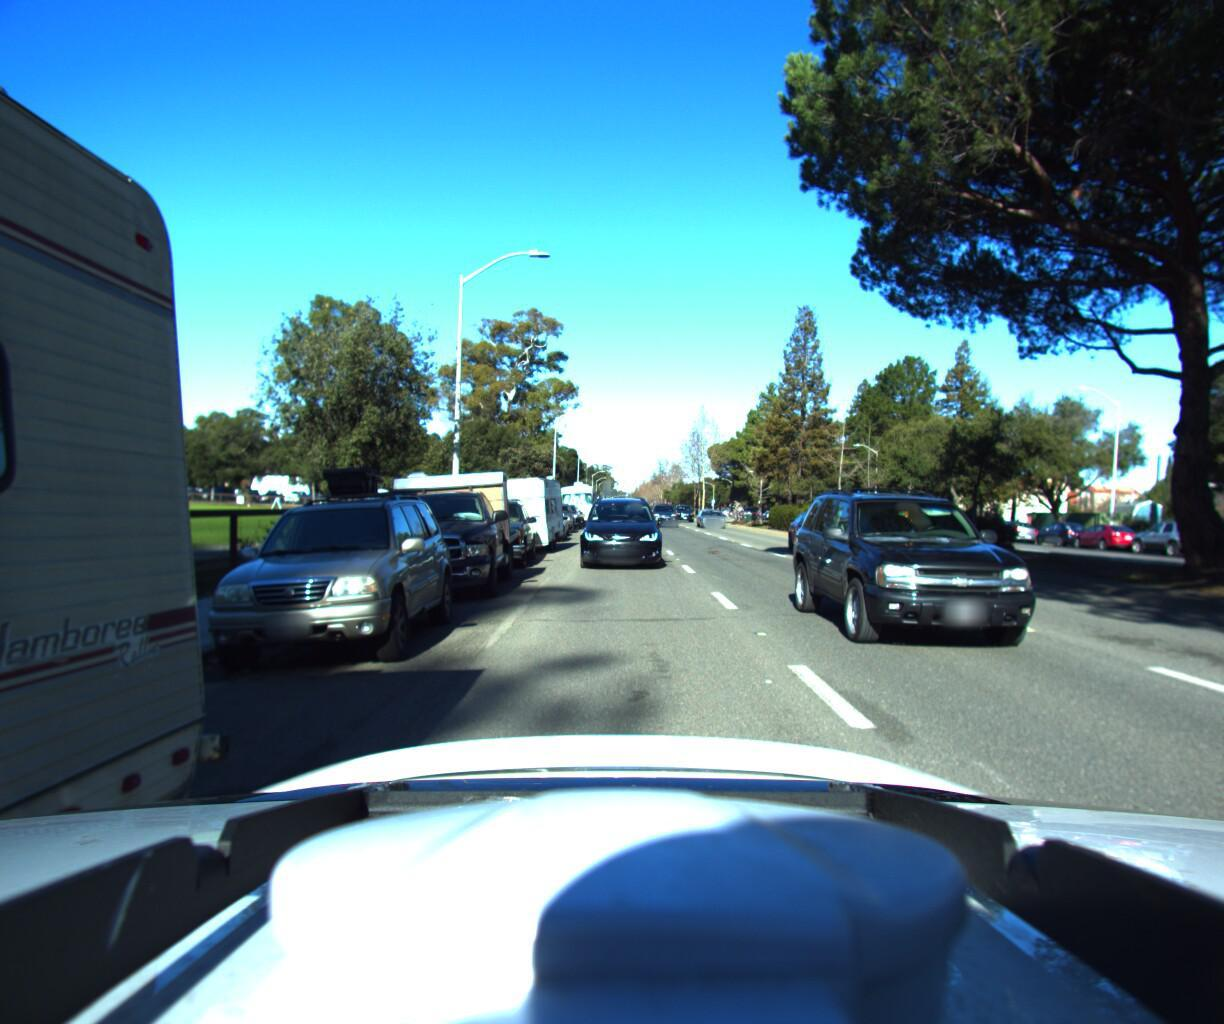car: (804, 456, 1167, 685), (175, 444, 466, 686), (328, 448, 526, 610), (442, 492, 546, 566), (577, 486, 661, 567), (1126, 513, 1224, 554), (1067, 517, 1145, 554), (1029, 518, 1101, 550), (979, 513, 1040, 543), (1194, 522, 1224, 566), (649, 501, 680, 527), (696, 506, 732, 528), (672, 506, 695, 523)
other_vehicle: (479, 465, 566, 557), (556, 478, 594, 526)
